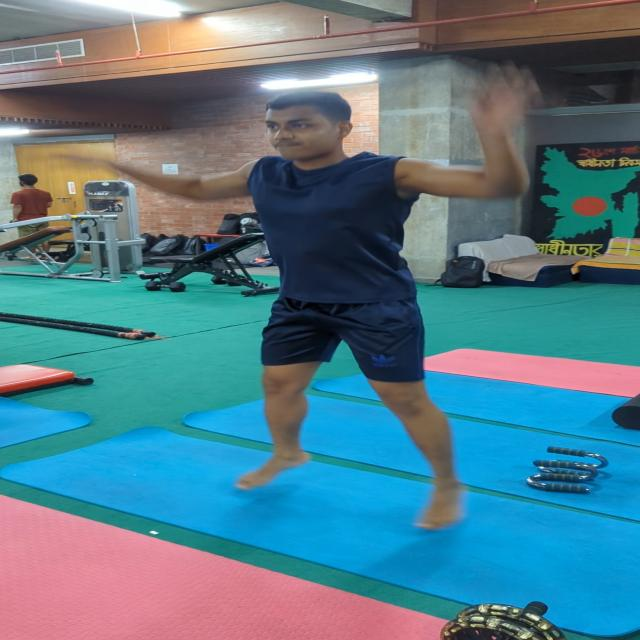Normal_JumpingJacks: (125, 80, 520, 529)
